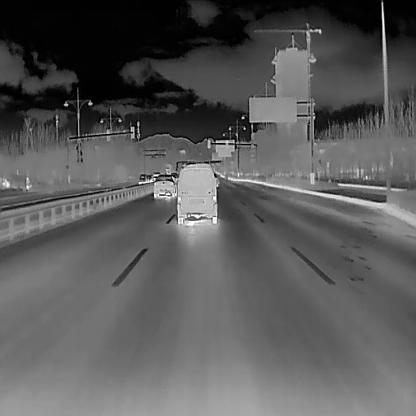car: (176, 162, 217, 224), (153, 174, 177, 200), (136, 172, 146, 183)
